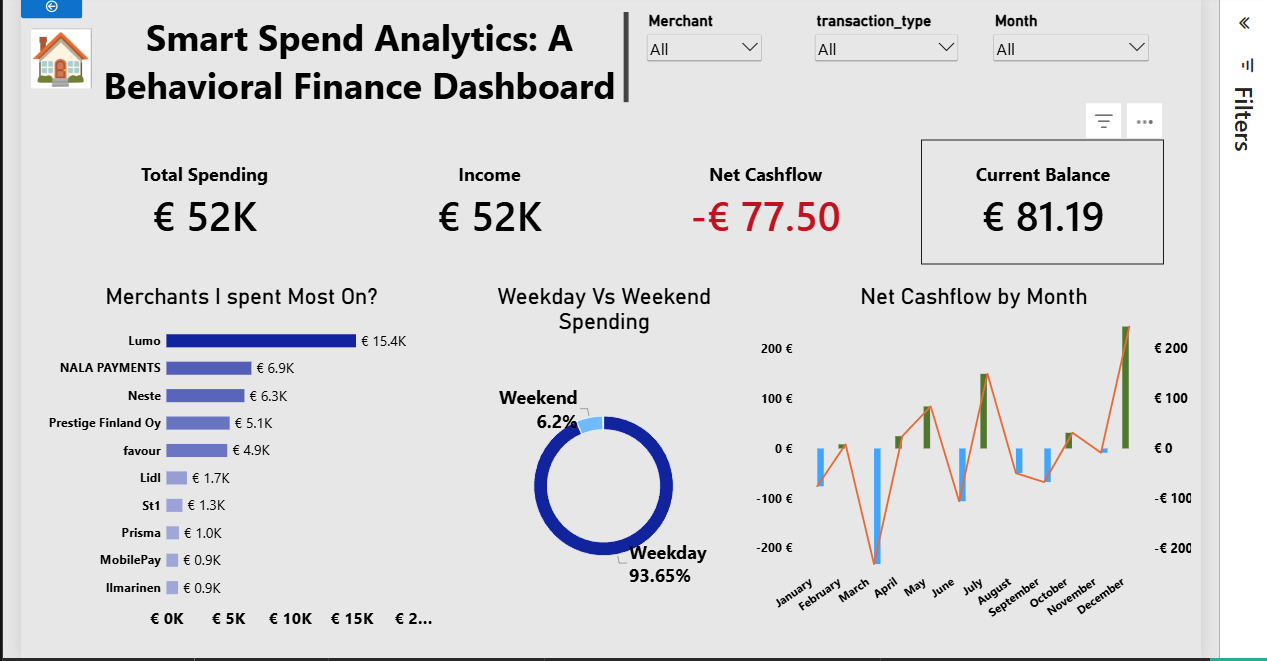

Layout of this report page (visuals, bound fields, positions):
{"tool":"powerbi","page":{"name":"Executive overview","canvas":[1920,1080],"ordinal":1},"visuals":[{"type":"textbox","box":[119.6,29.3,868.6,151.3],"z":1000},{"type":"cardVisual","fields":{"Data":["_measure.Total Spending"]},"box":[99.1,236.1,395.3,202.5],"z":2000},{"type":"barChart","title":" Merchants I spent Most On?","fields":{"Category":["bank_statement_fact.Merchant"],"Y":["_measure.Total Spending"]},"box":[26.8,456.2,663.6,600.2],"z":3000},{"type":"donutChart","title":"Weekday Vs Weekend Spending","fields":{"Category":["Date_dim.Is Weekend"],"Y":["_measure.Total Spending"]},"box":[736.8,456.2,422.1,592.9],"z":4000},{"type":"lineClusteredColumnComboChart","title":"Net Cashflow by Month","fields":{"Category":["Date_dim.Month"],"Y":["_measure.surplus net Cashflow","_measure.deficit net Cashflow"],"Y2":["_measure.Net Cashflow"]},"box":[1178.4,456.2,741.7,592.9],"z":5000},{"type":"actionButton","box":[0,0,100,40],"z":6000},{"type":"image","box":[0,56.1,131.8,97.6],"z":7000},{"type":"cardVisual","fields":{"Data":["_1_2_measure.Income"]},"box":[562.6,236.1,395.3,202.5],"z":8000},{"type":"cardVisual","fields":{"Data":["_1_2_measure.Net Cashflow"]},"box":[1011.5,236.1,395.3,202.5],"z":9000},{"type":"cardVisual","fields":{"Data":["_1_2_measure.Current Balance"]},"box":[1463.3,236.1,395.3,202.5],"z":10000},{"type":"slicer","fields":{"Values":["bank_statement_fact.Merchant"]},"box":[1012.5,29.3,197.6,151.3],"z":11000},{"type":"slicer","fields":{"Values":["bank_statement_fact.transaction_type"]},"box":[1285.8,29.3,244,151.3],"z":12000},{"type":"slicer","fields":{"Values":["Date_dim.Month"]},"box":[1576.1,29.3,263.5,151.3],"z":13000}]}

Visuals, with their boxes on the page's 1920x1080 design canvas (x1, y1, x2, y2). These are canvas units, not pixel positions in the 1267x661 screenshot, which may show the page scaled, cropped or inside an application window:
textbox: box(120, 29, 988, 181)
cardVisual - _measure.Total Spending: box(99, 236, 494, 439)
" Merchants I spent Most On?" barChart: box(27, 456, 690, 1056)
"Weekday Vs Weekend Spending" donutChart: box(737, 456, 1159, 1049)
"Net Cashflow by Month" lineClusteredColumnComboChart: box(1178, 456, 1920, 1049)
actionButton: box(0, 0, 100, 40)
image: box(0, 56, 132, 154)
cardVisual - _1_2_measure.Income: box(563, 236, 958, 439)
cardVisual - _1_2_measure.Net Cashflow: box(1012, 236, 1407, 439)
cardVisual - _1_2_measure.Current Balance: box(1463, 236, 1859, 439)
slicer - bank_statement_fact.Merchant: box(1012, 29, 1210, 181)
slicer - bank_statement_fact.transaction_type: box(1286, 29, 1530, 181)
slicer - Date_dim.Month: box(1576, 29, 1840, 181)
